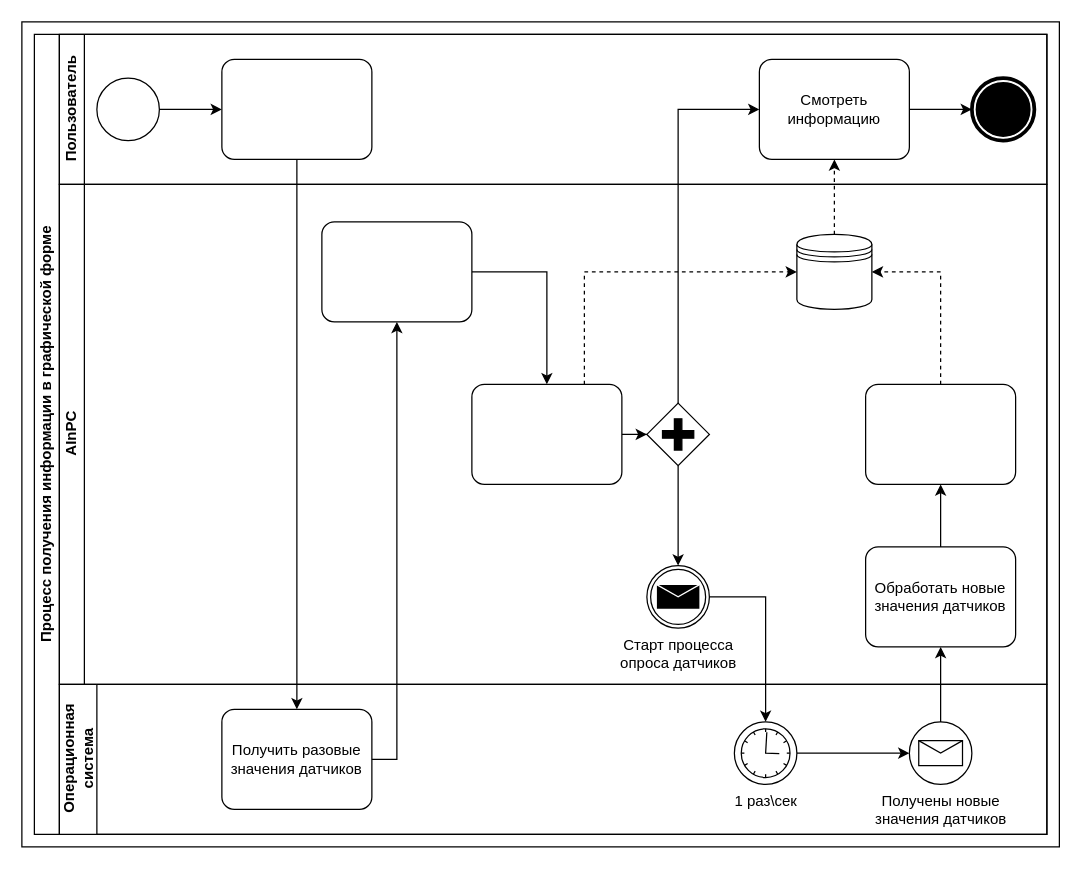
The diagram is 1081 pixels wide and 869 high, and some of its shapes have lost their labels. The centre of each missing label's shape, as x and y in pixels:
Запустить программу: point (296, 108)
Кэш данных: point (834, 271)
Обновить графики: point (940, 433)
Обработать разовые значения датчиков: point (396, 271)
Построить графики с начальными значениями: point (546, 433)
